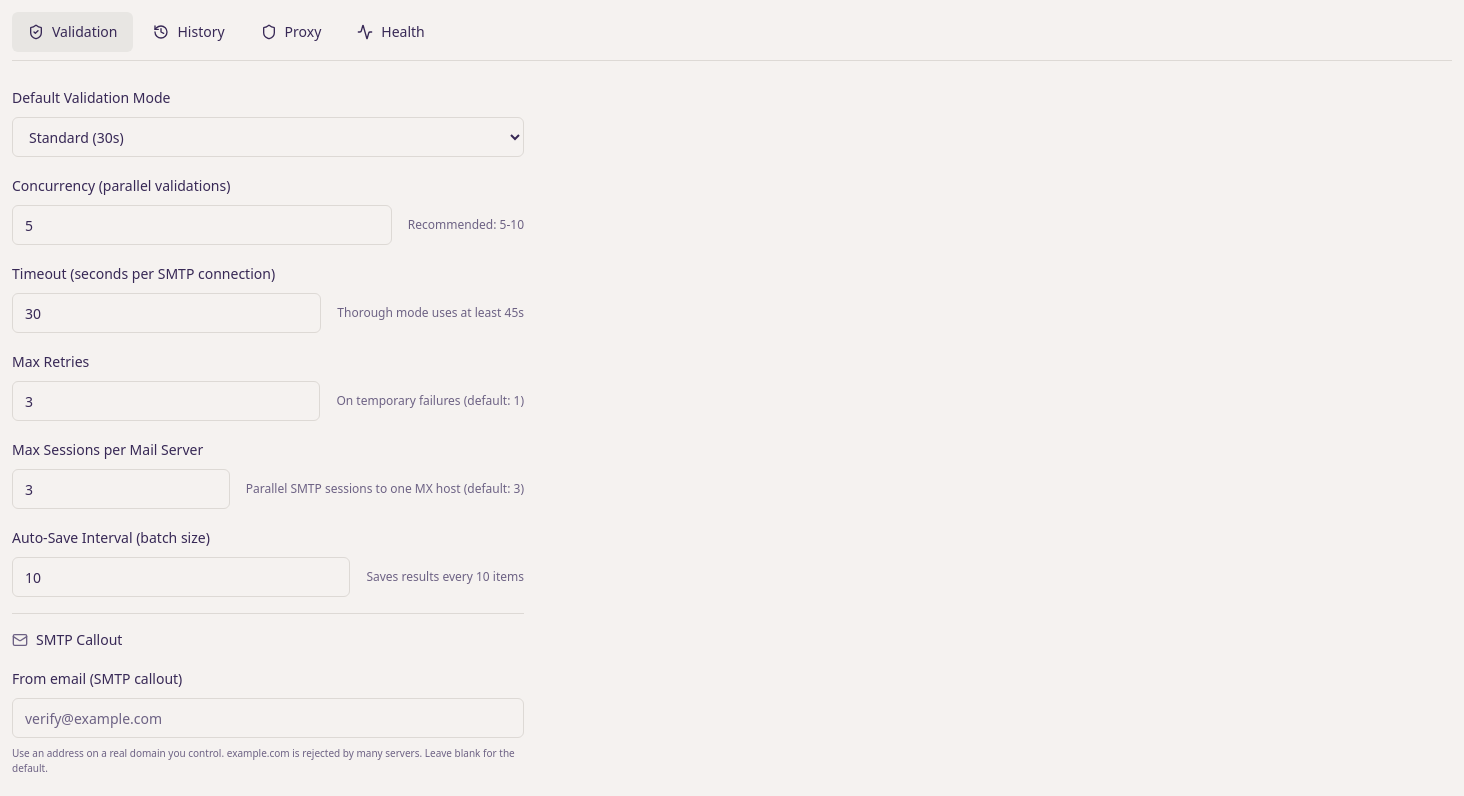
Test: ProxySettings Tab › shows correct description for each rotation mode
Click the button "Proxy": point(291, 32) [245, 12, 337, 52]
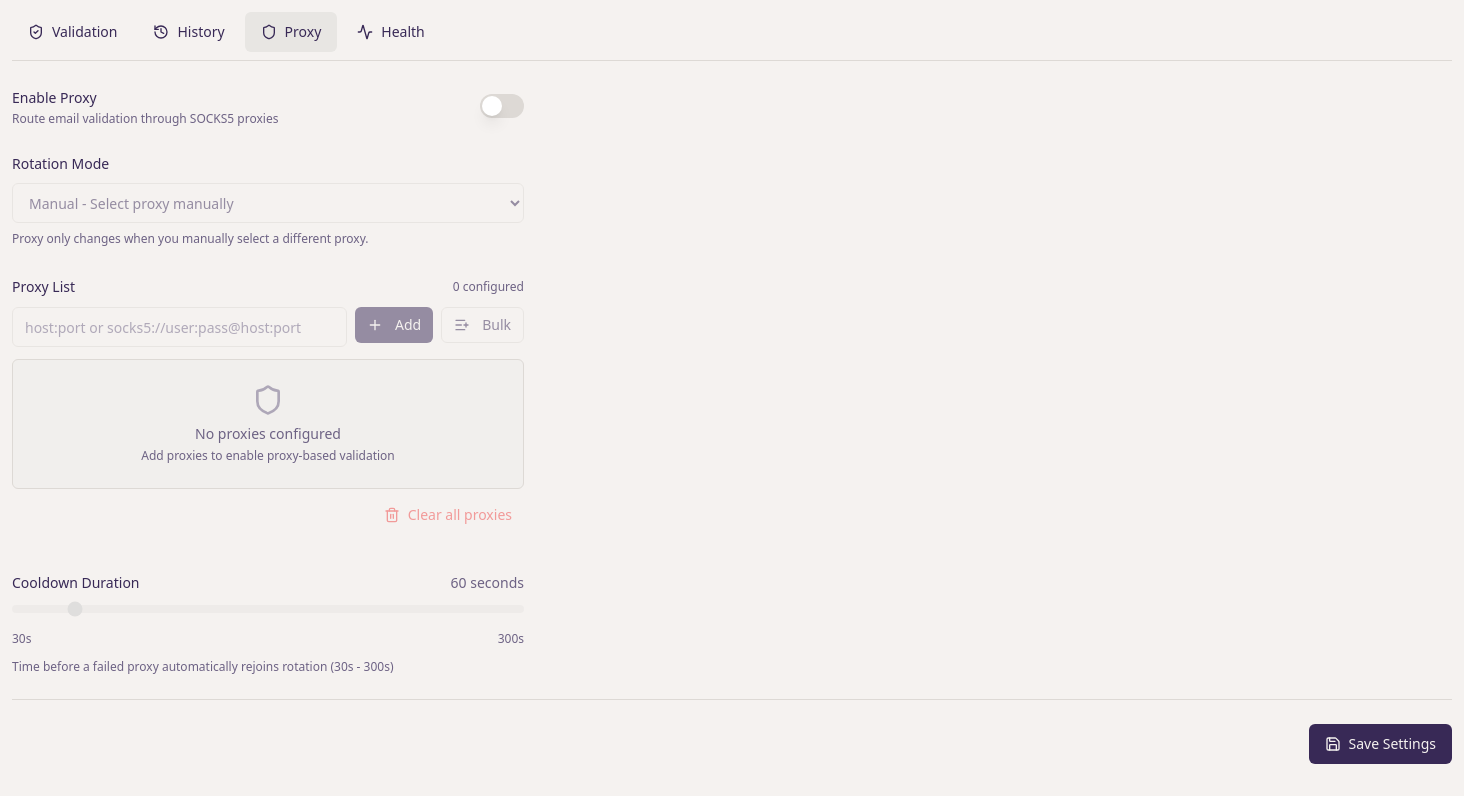
Click the switch named "enable proxy": point(502, 106) [480, 94, 524, 118]
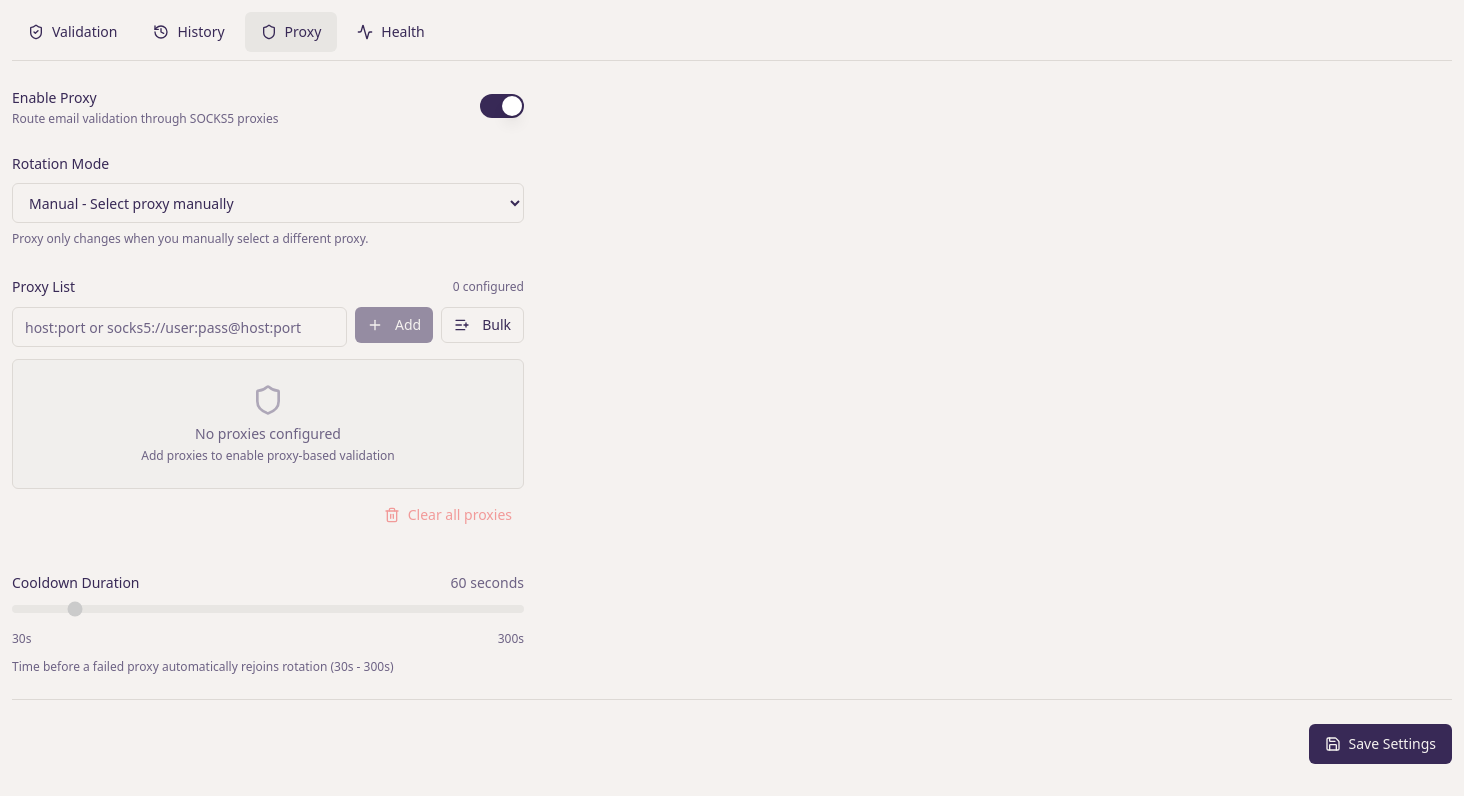
Result: the text "Proxy only changes when you manually select" is shown at [12, 230, 369, 247]
Note: Switch to Automatic
Select "Automatic - Rotate through all proxies" in the dropdown labelled "Rotation Mode": point(268, 203) [12, 183, 524, 223]
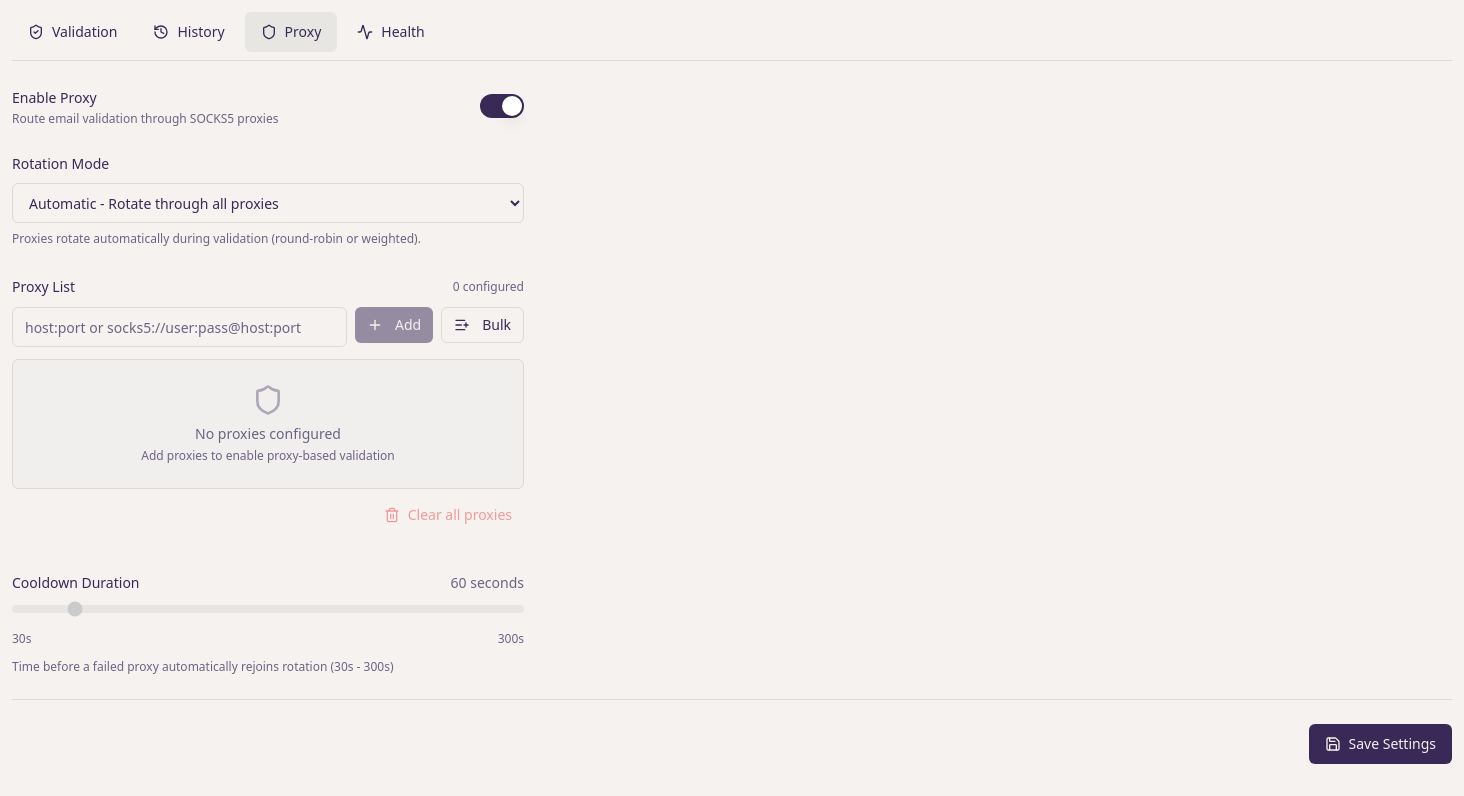
Result: the text "Proxies rotate automatically during validation" is shown at [12, 230, 421, 247]
Note: Switch to Per-Domain
Select "Per-Domain - Assign proxies to email domains" in the dropdown labelled "Rotation Mode": point(268, 203) [12, 183, 524, 223]
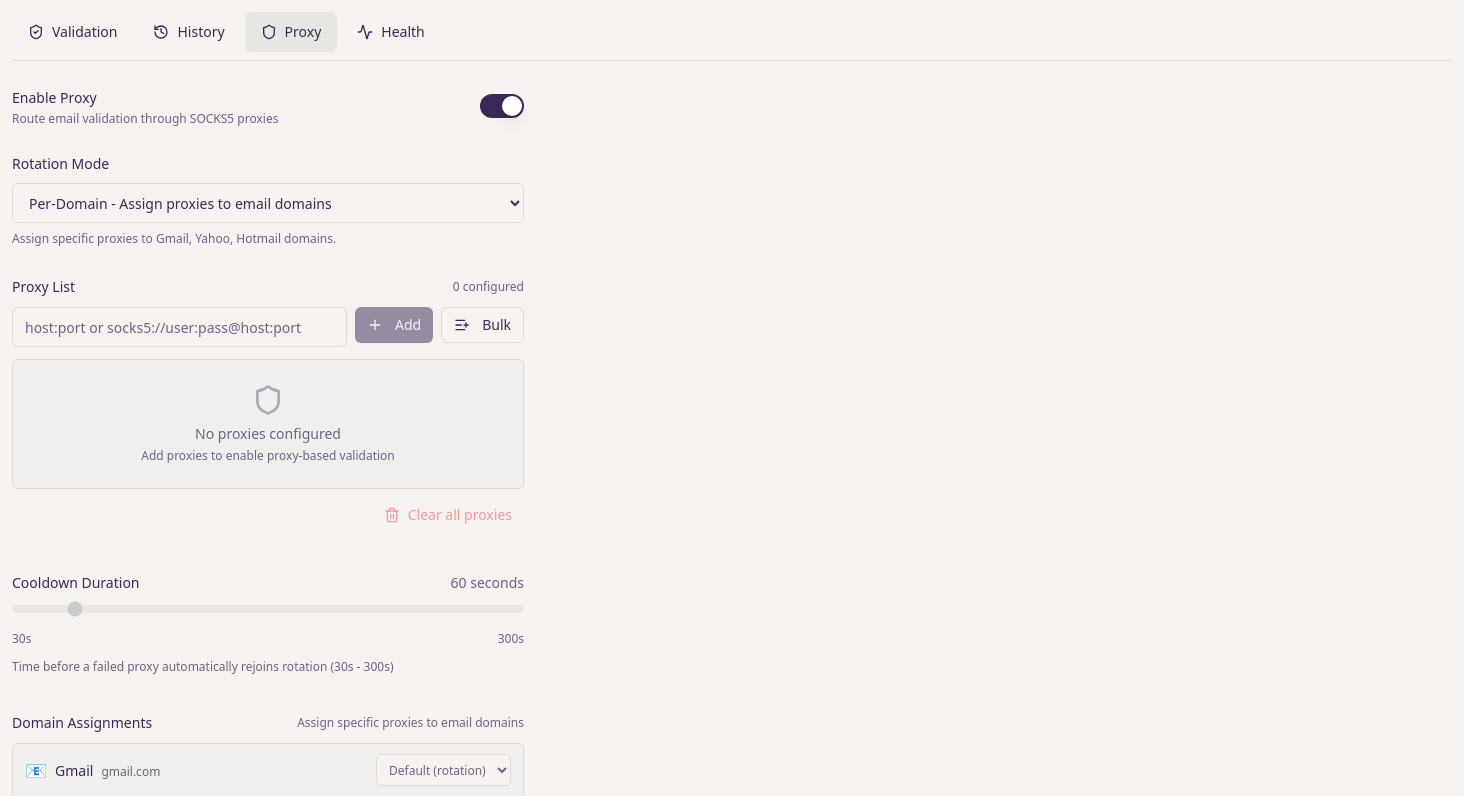
Result: the text "Assign specific proxies to Gmail, Yahoo, Hotmail domains." is shown at [12, 230, 336, 247]
